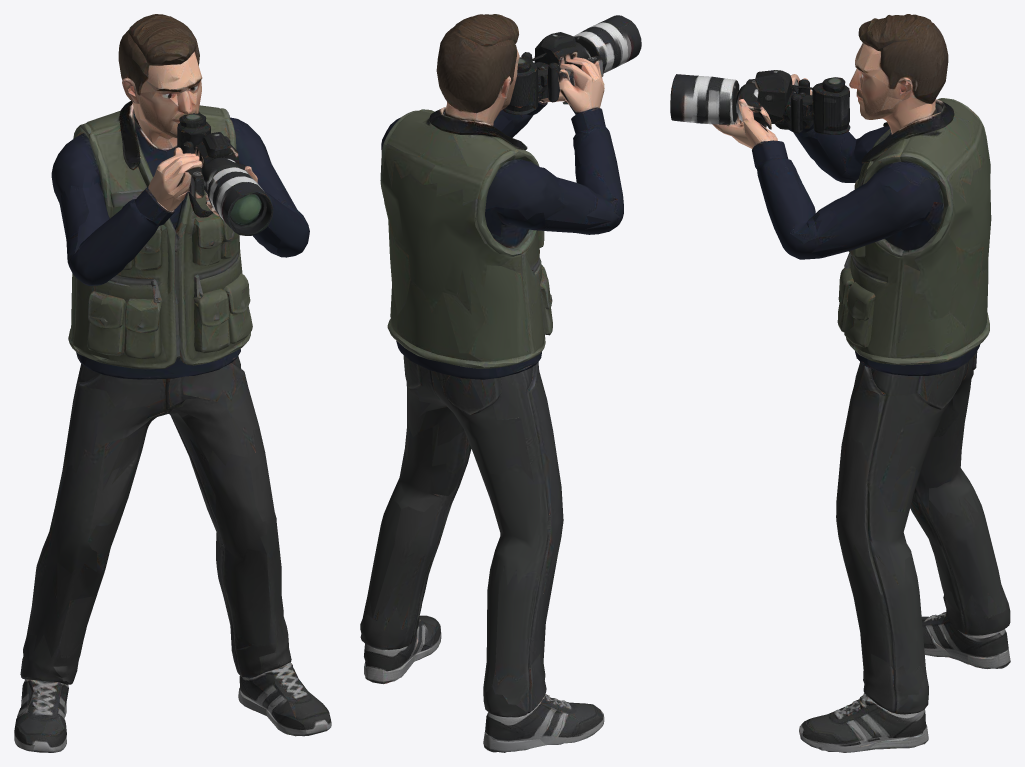
Rendered from photographer-standing.glb.
3 views of the same model, side by side, from view 1: azimuth 30°, elevation 25°; view 2: azimuth 150°, elevation 25°; view 3: azimuth 270°, elevation 25° (orthographic). The views are drawn at different scales.
Parts seen in each view (by area): view 1: Mesh_0; view 2: Mesh_0; view 3: Mesh_0.
Part boxes in pixels (left/top/right/bottom): Mesh_0: left=14, top=14, right=331, bottom=752; Mesh_0: left=360, top=14, right=641, bottom=752; Mesh_0: left=670, top=14, right=1010, bottom=752.
Bounding box in the file's own units: 0.697 × 1.8 × 0.8197.
Materials: 1 (1 with a texture image).
